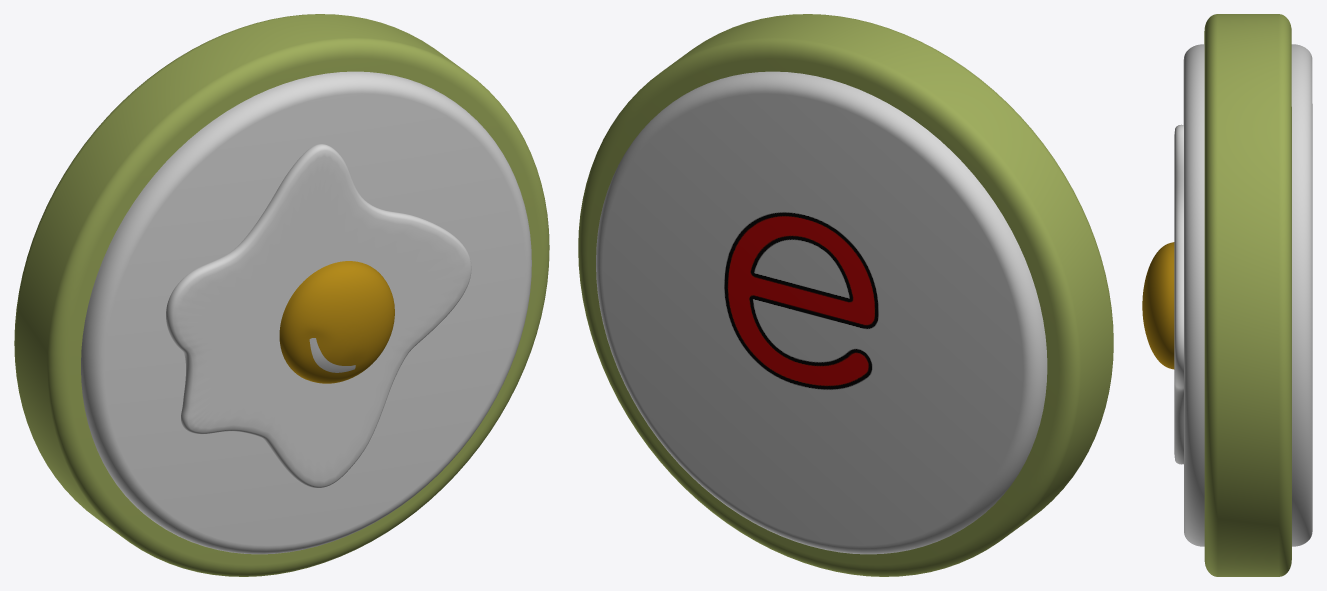
The model's file is egg.gltf.
3 renders of one model, left to right at view 1: azimuth 30°, elevation 25°; view 2: azimuth 150°, elevation 25°; view 3: azimuth 270°, elevation 25°, orthographic. The views are drawn at different scales.
Parts seen in each view (by area): view 1: Cylinder_2, Cylinder.001, BezierCurve, Sphere; view 2: Cylinder_2, Cylinder.001; view 3: Cylinder.001, Cylinder_2, BezierCurve, Sphere.
Part boxes in pixels (x1,y1,x2,y2): Cylinder_2: [81, 71, 531, 554]; Cylinder.001: [14, 14, 549, 576]; BezierCurve: [166, 144, 471, 488]; Sphere: [279, 261, 394, 383]; Cylinder_2: [596, 71, 1047, 554]; Cylinder.001: [578, 14, 1113, 576]; Cylinder.001: [1204, 14, 1291, 576]; Cylinder_2: [1183, 44, 1312, 546]; BezierCurve: [1174, 124, 1183, 464]; Sphere: [1142, 242, 1174, 369].
Bounding box in the file's own units: 2.56 × 2.56 × 0.7735.
5 materials, 1 textured.
